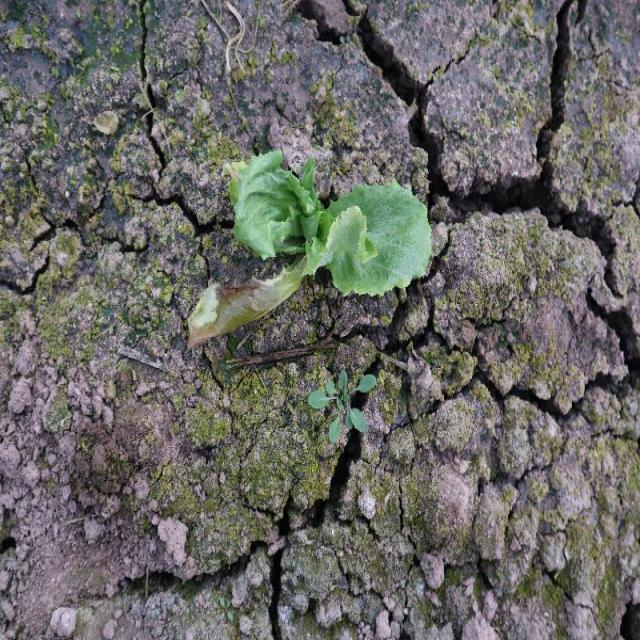crop: (228, 161, 434, 300)
